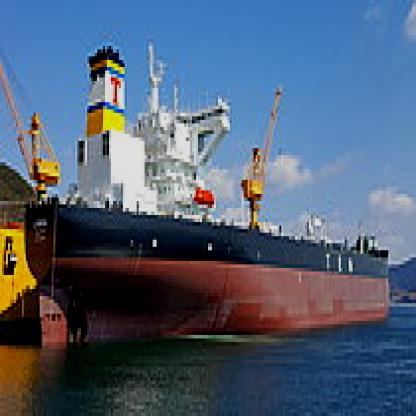Tanker: (38, 208, 400, 369)
